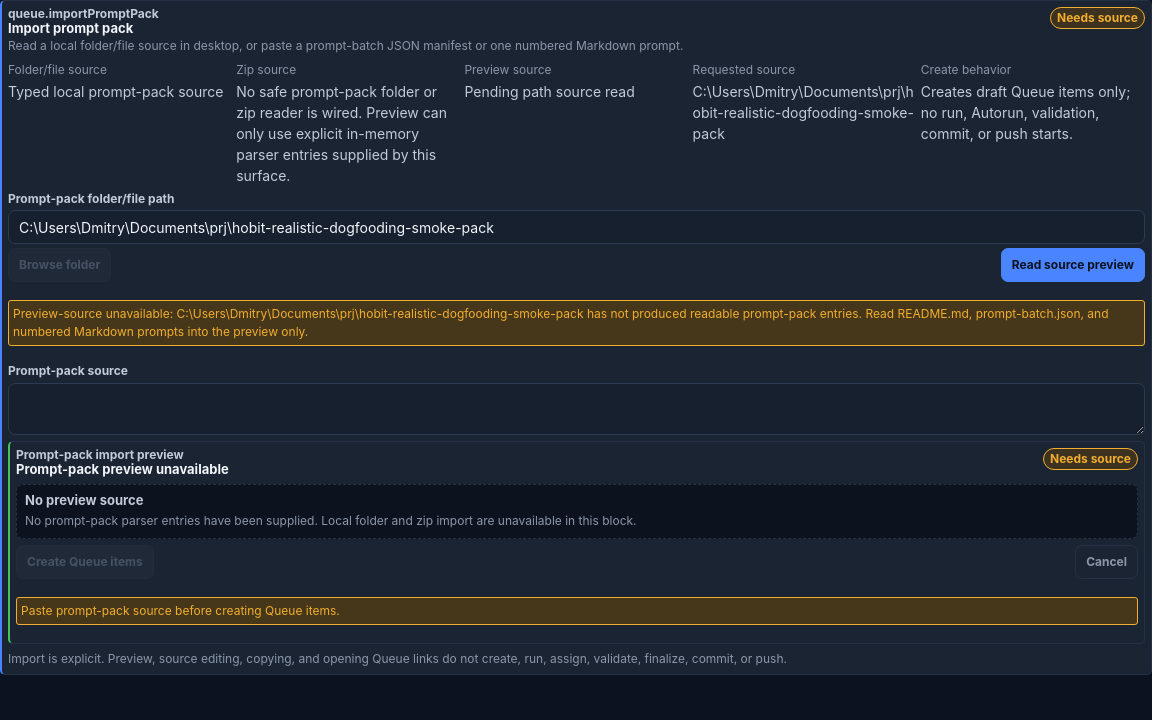
WorkspaceAgentPromptPackImportCard › reads an exact path source into preview entries and keeps Queue creation explicit
Click the button "Read source preview" at (1073, 265), box [1001,248,1145,282]
(page scrolled)
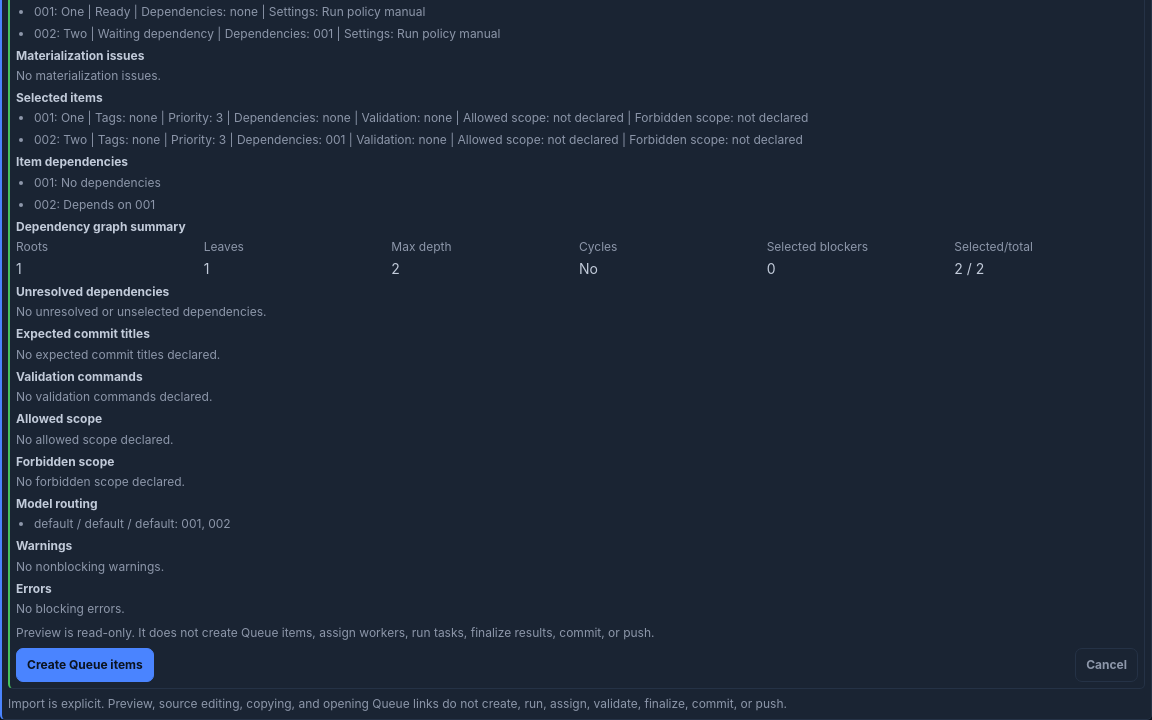
Check: the text "001: One" is shown, box [34,4,425,18]
Check: the text "002: Two" is shown, box [34,26,500,40]
Check: the text "002: Depends on 001" is shown, box [34,197,155,212]
